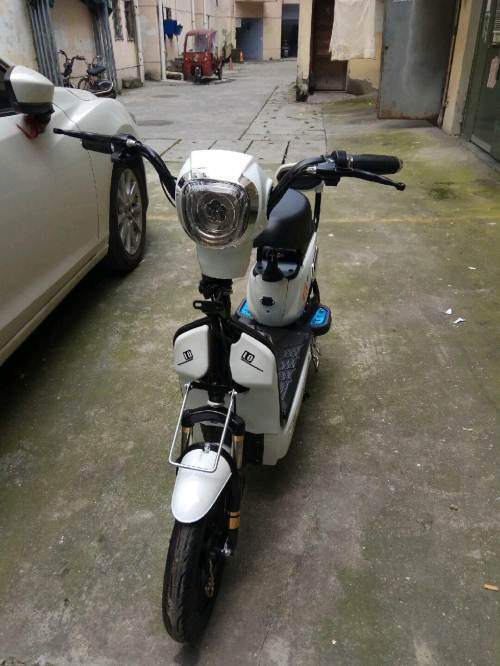电动车: (46, 121, 413, 649)
